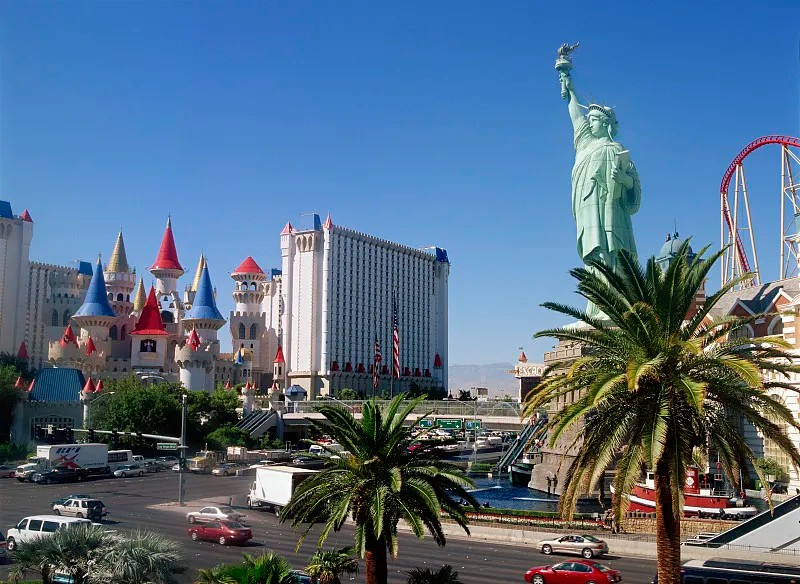SL: (527, 40, 641, 501)
